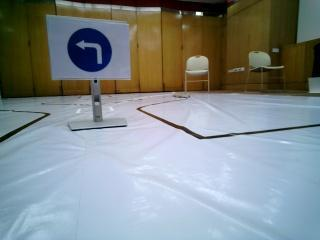left: (50, 17, 133, 79)
